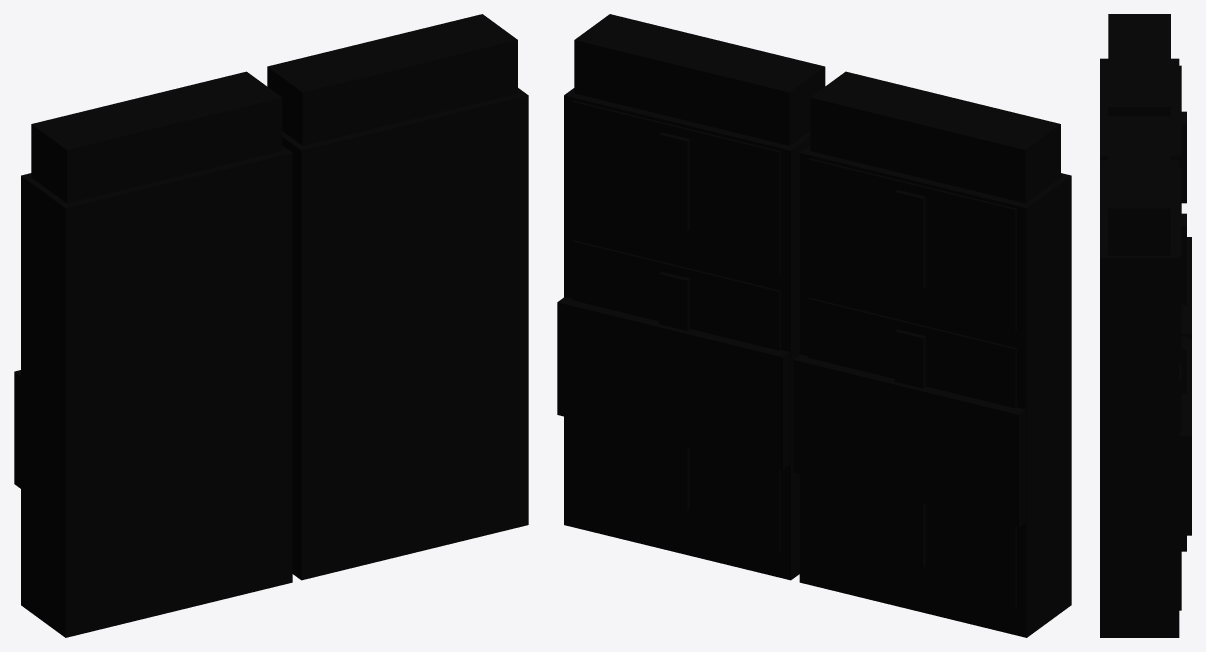
Rendered from brood_heavy_leggings.obj.
3 views of the same model, side by side, from view 1: azimuth 30°, elevation 25°; view 2: azimuth 150°, elevation 25°; view 3: azimuth 270°, elevation 25° (orthographic). The views are drawn at different scales.
Bounding box in the file's own units: 0.875 × 0.8726 × 0.1702.
